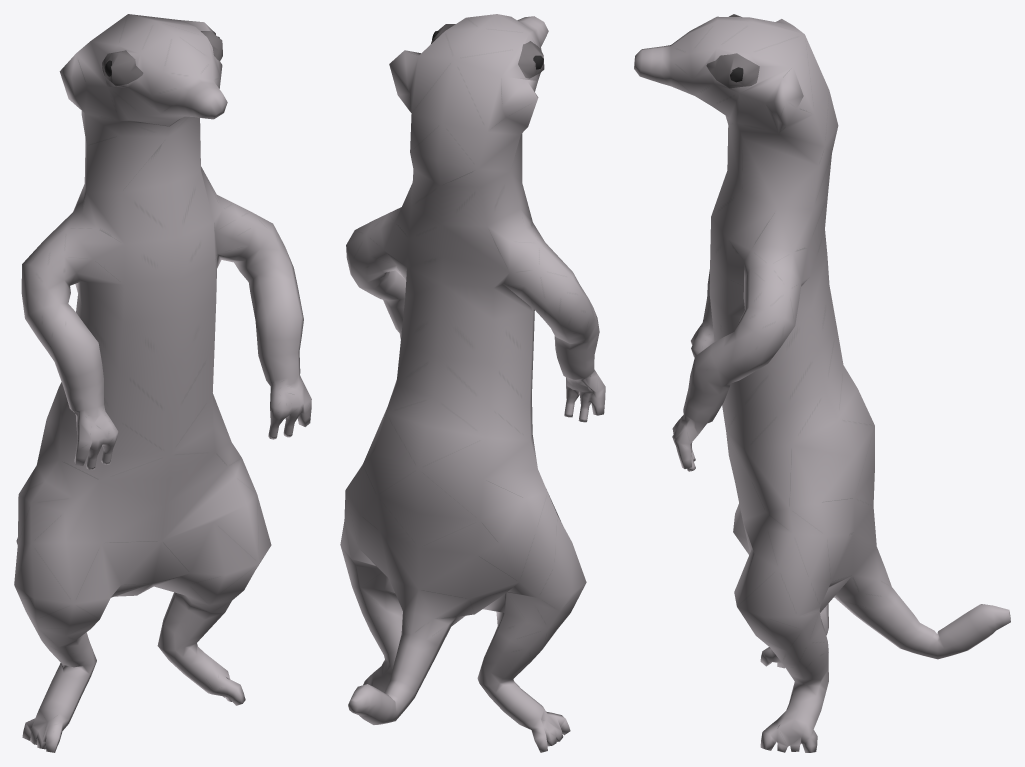
The model's file is meerkat.fbx.
The picture shows the model from 3 angles, left to right: view 1: azimuth 30°, elevation 25°; view 2: azimuth 150°, elevation 25°; view 3: azimuth 270°, elevation 25°; orthographic projection. The views are drawn at different scales.
Parts seen in each view (by area): view 1: unamed; view 2: unamed; view 3: unamed.
Part boxes in pixels (bbox=[...]): unamed: bbox=[14, 14, 311, 752]; unamed: bbox=[340, 14, 605, 752]; unamed: bbox=[634, 14, 1010, 752].
Bounding box in the file's own units: 0.3679 × 0.9823 × 0.4842.
Materials: 1 (1 with a texture image).
